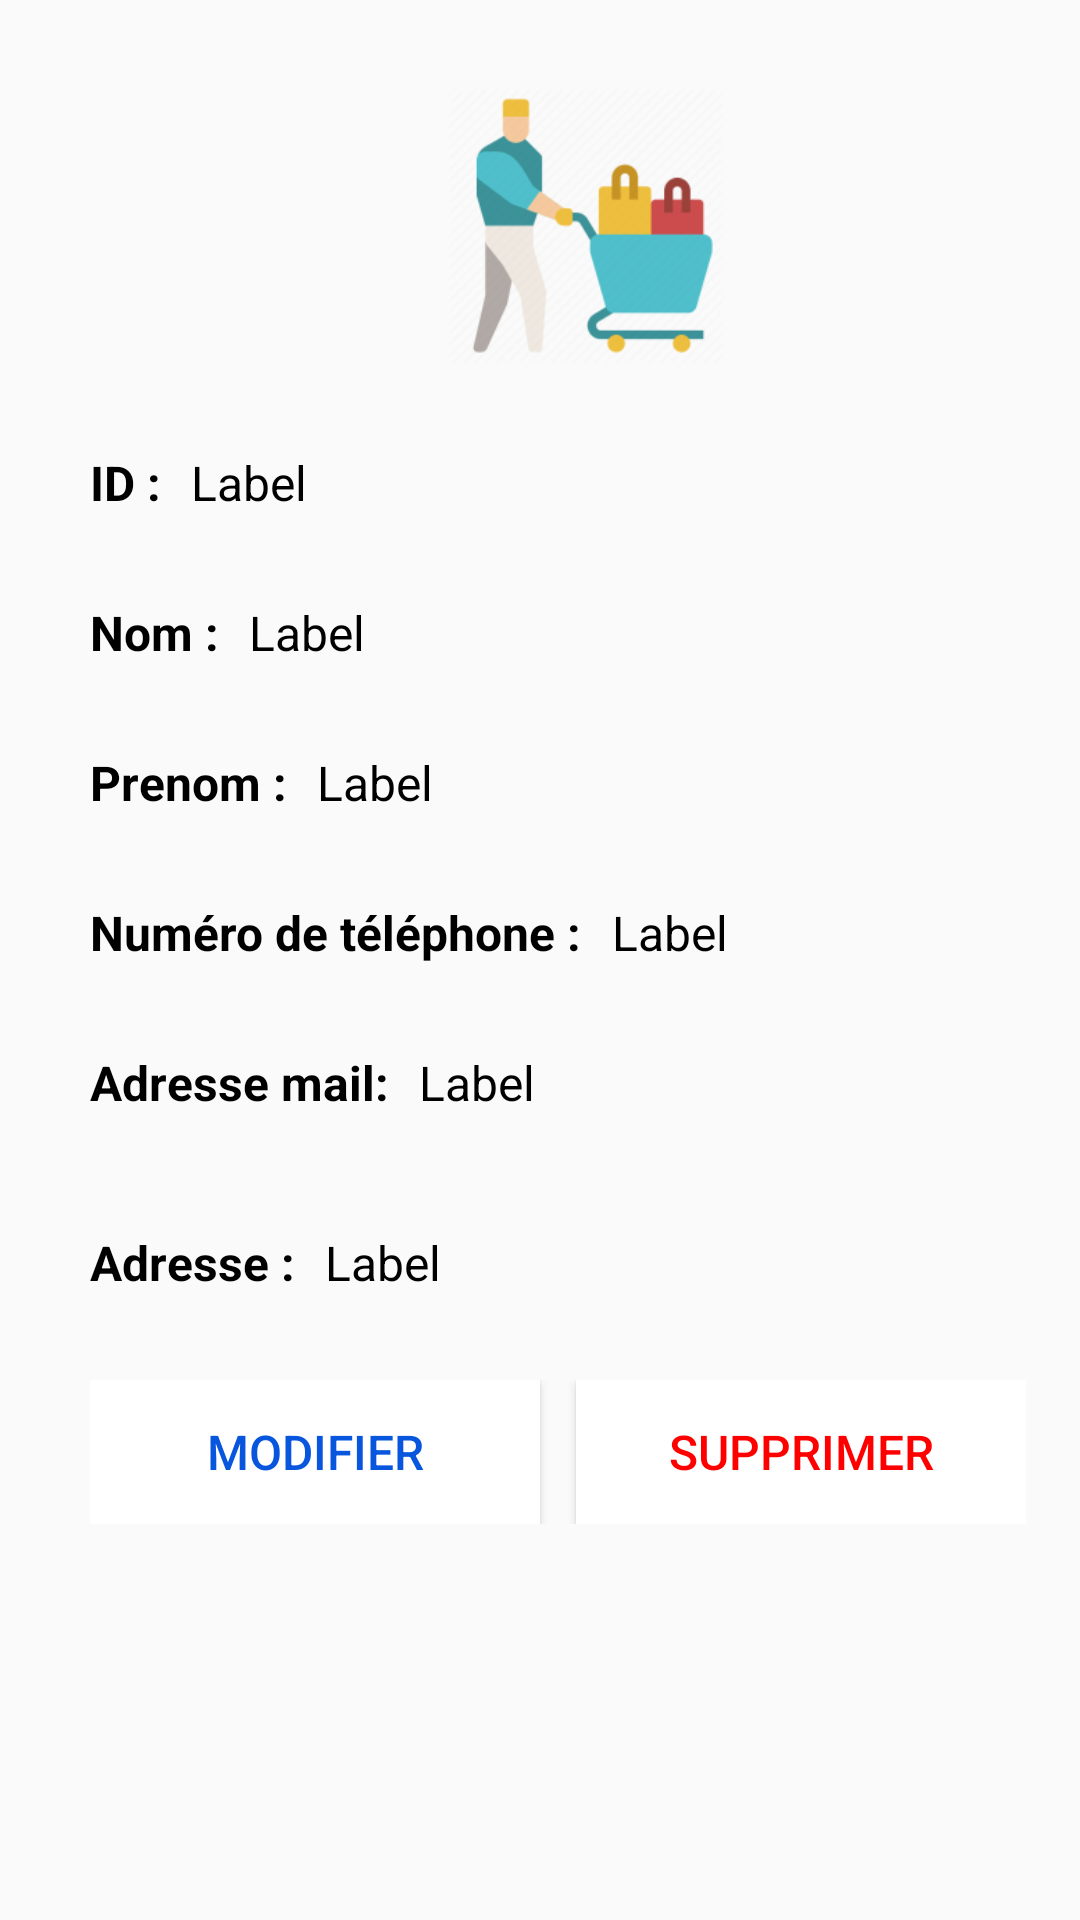

Icons on this 1080px x 1920px Android screen, each with its box as BBox(x1, y1, x2, y2):
clients: BBox(473, 98, 713, 353)
